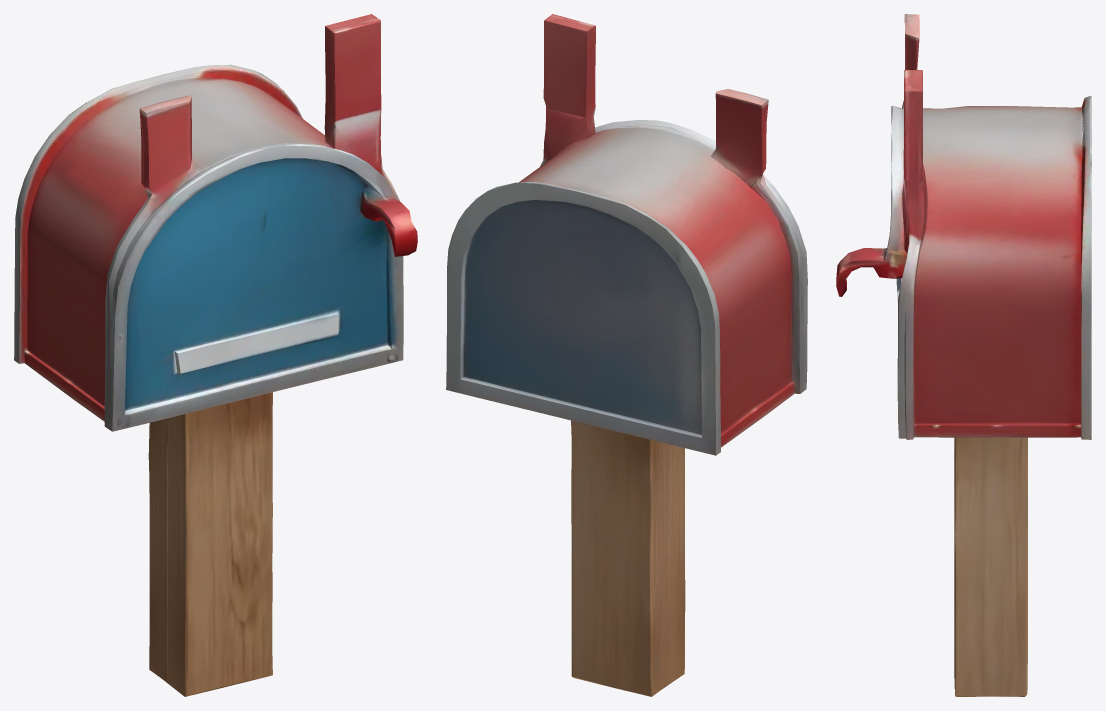
The model's file is mailbox.glb.
The picture shows the model from 3 angles, left to right: view 1: azimuth 30°, elevation 25°; view 2: azimuth 150°, elevation 25°; view 3: azimuth 270°, elevation 25°; orthographic projection. The views are drawn at different scales.
Visible parts, largest first — view 1: model; view 2: model; view 3: model.
Boxes of the visible parts, left/top/right/bottom form: model: left=14, top=14, right=417, bottom=696; model: left=446, top=14, right=807, bottom=696; model: left=836, top=14, right=1091, bottom=696.
Size of the model in its own units: 0.8895 by 1.9 by 0.6805.
Materials: 1 (1 with a texture image).
